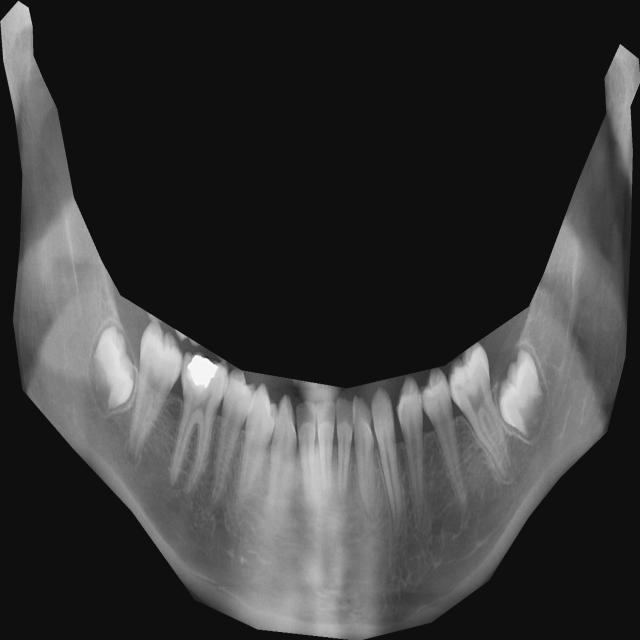mandibula: (0, 1, 640, 640)
